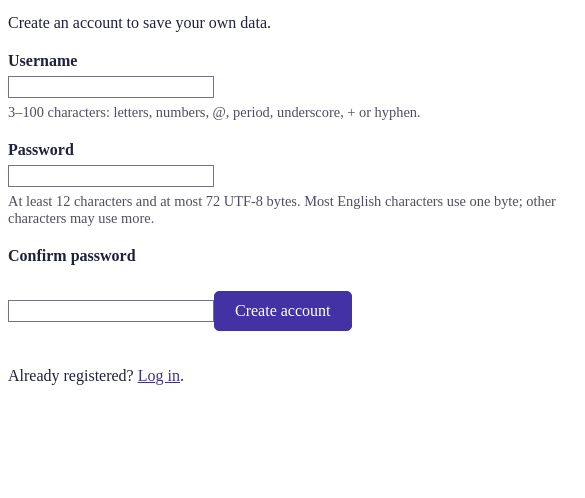
Test: checks password confirmation before registering and shows server failures
Type "testuser" into the field labelled "Username" at (111, 87), box [8,76,214,98]
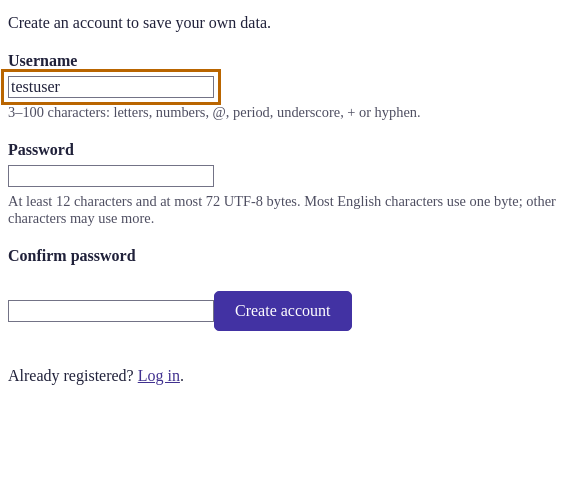
Type "longpassword123" into the password field labelled "Password" at (111, 176), box [8,165,214,187]
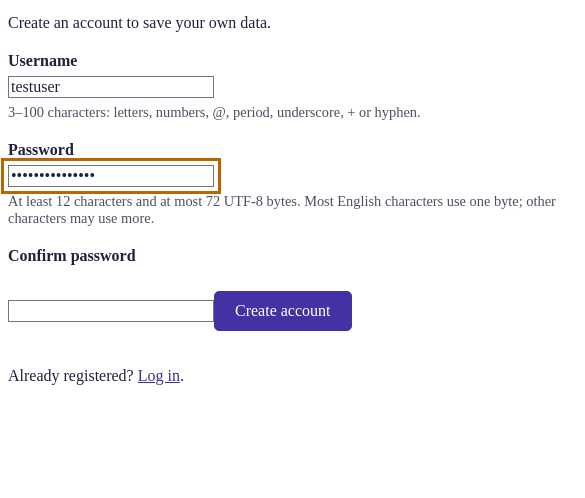
Type "different123" into the password field labelled "Confirm password" at (111, 311), box [8,300,214,322]
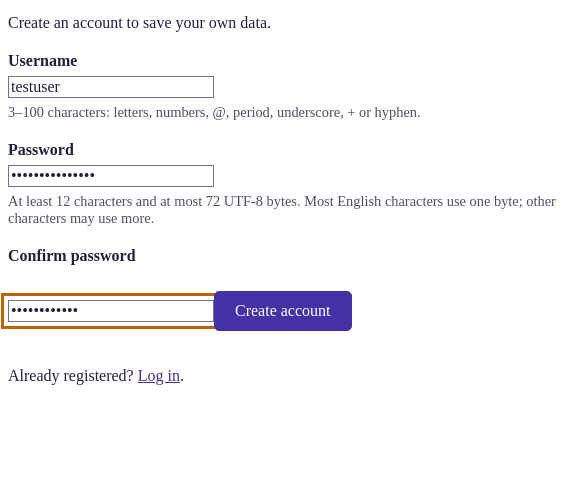
Click the button "Create account" at (283, 311), box [214,291,352,331]
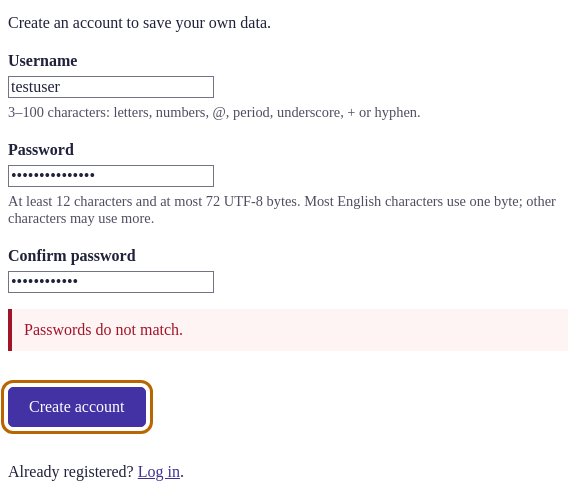
Expected: the message shows "Passwords do not match", [24,321,183,338]
Type "longpassword123" into the password field labelled "Confirm password" at (111, 282), box [8,271,214,293]
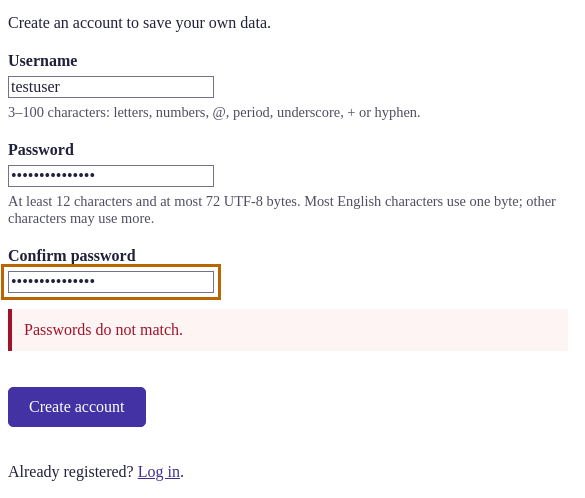
Click the button "Create account" at (77, 407), box [8,387,146,427]
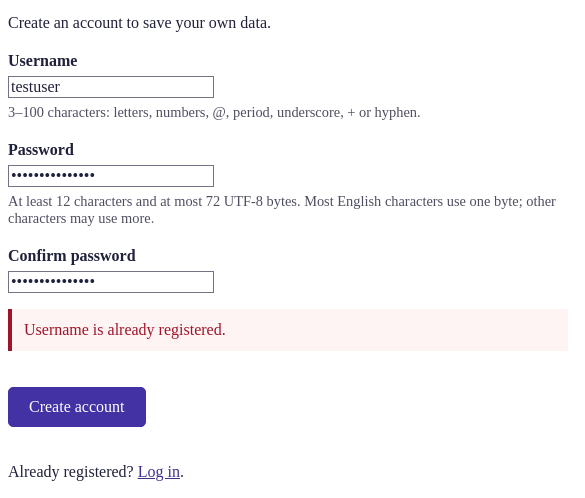
Expected: the message shows "already registered", [24,321,226,338]
